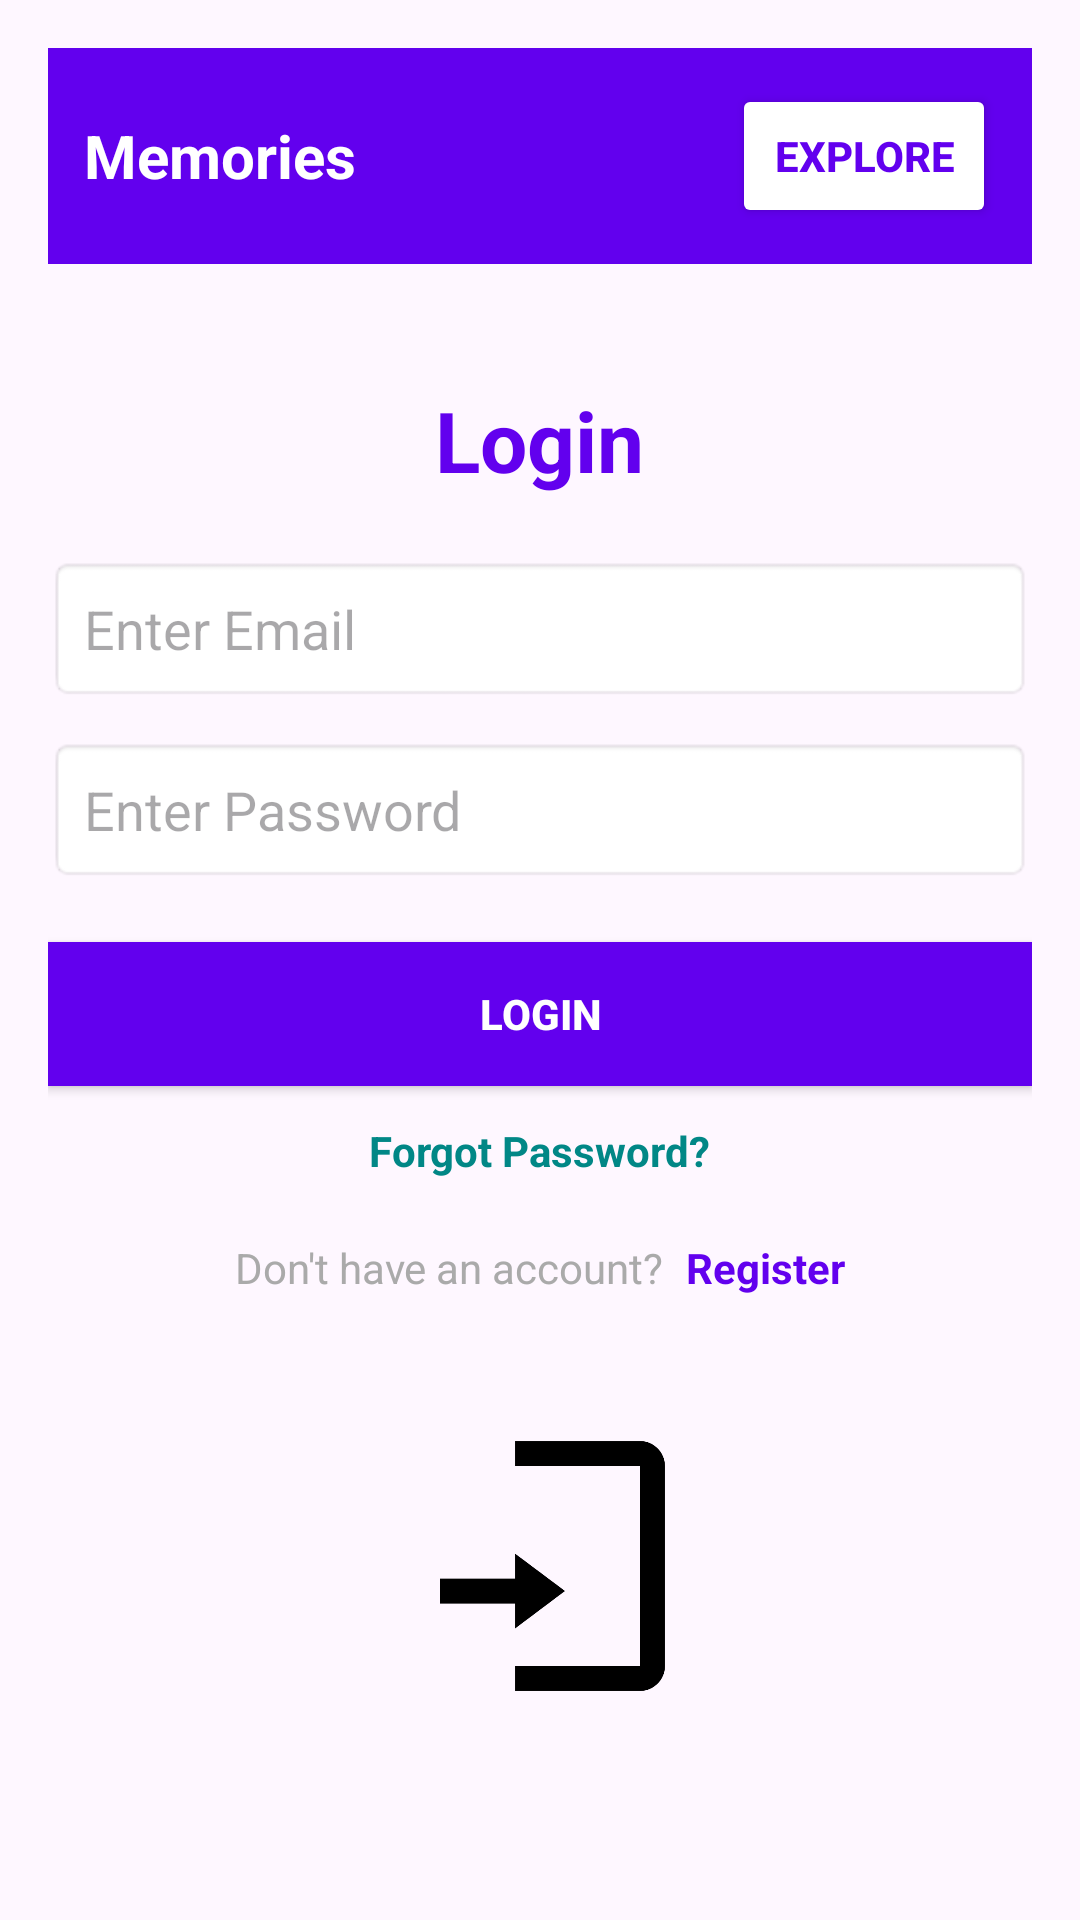

Named icons in this screenshot (1080px x 1920px) and their bounding boxes, (x1, y1, x2, y2):
login: (440, 1441, 665, 1691)
